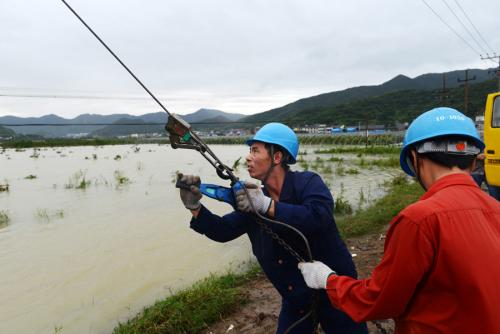gloves: (234, 182, 272, 214), (297, 259, 336, 289), (176, 172, 202, 209)
hard-hat: (399, 106, 485, 177), (246, 122, 299, 163)
person: (297, 106, 500, 334), (176, 122, 370, 334)
ppe-suit: (188, 168, 368, 333), (324, 172, 499, 334)
